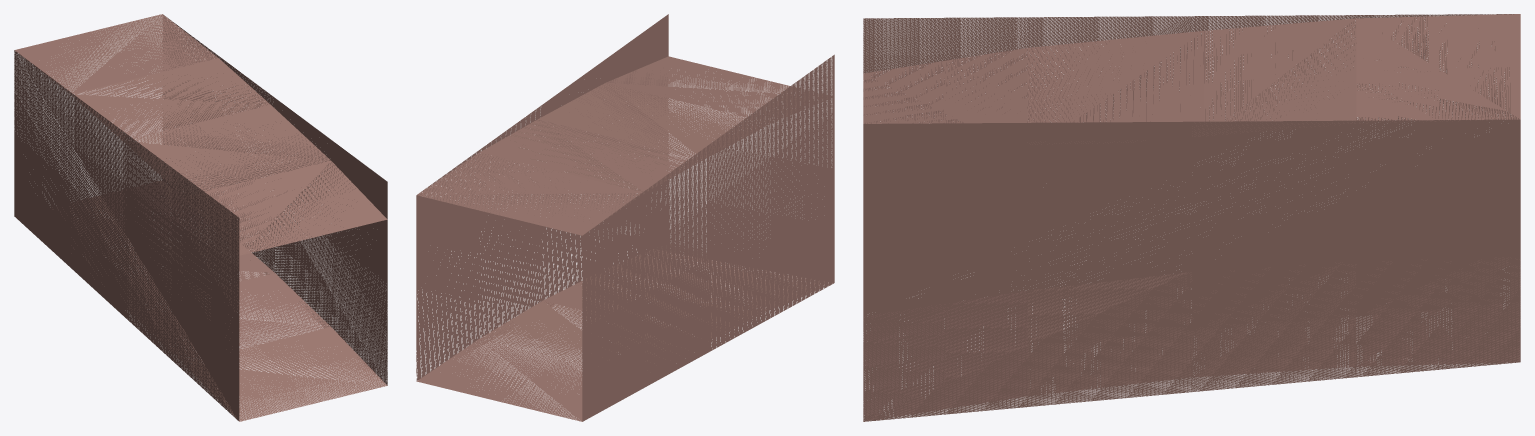
Rendered from SW_ENV_RailTunnel_Riser_B_Single_10m_FF_Collision.fbx.
3 views of the same model, side by side, from view 1: azimuth 30°, elevation 25°; view 2: azimuth 150°, elevation 25°; view 3: azimuth 270°, elevation 25° (orthographic). The views are drawn at different scales.
Parts seen in each view (by area): view 1: SW_ENV_RailTunnel_Riser_B_Single_10m_FF_Collision; view 2: SW_ENV_RailTunnel_Riser_B_Single_10m_FF_Collision; view 3: SW_ENV_RailTunnel_Riser_B_Single_10m_FF_Collision.
Part boxes in pixels (bbox=[...]): SW_ENV_RailTunnel_Riser_B_Single_10m_FF_Collision: bbox=[14, 14, 387, 421]; SW_ENV_RailTunnel_Riser_B_Single_10m_FF_Collision: bbox=[416, 14, 834, 421]; SW_ENV_RailTunnel_Riser_B_Single_10m_FF_Collision: bbox=[863, 14, 1520, 421].
Size of the model in its own units: 380 by 507 by 1000.
